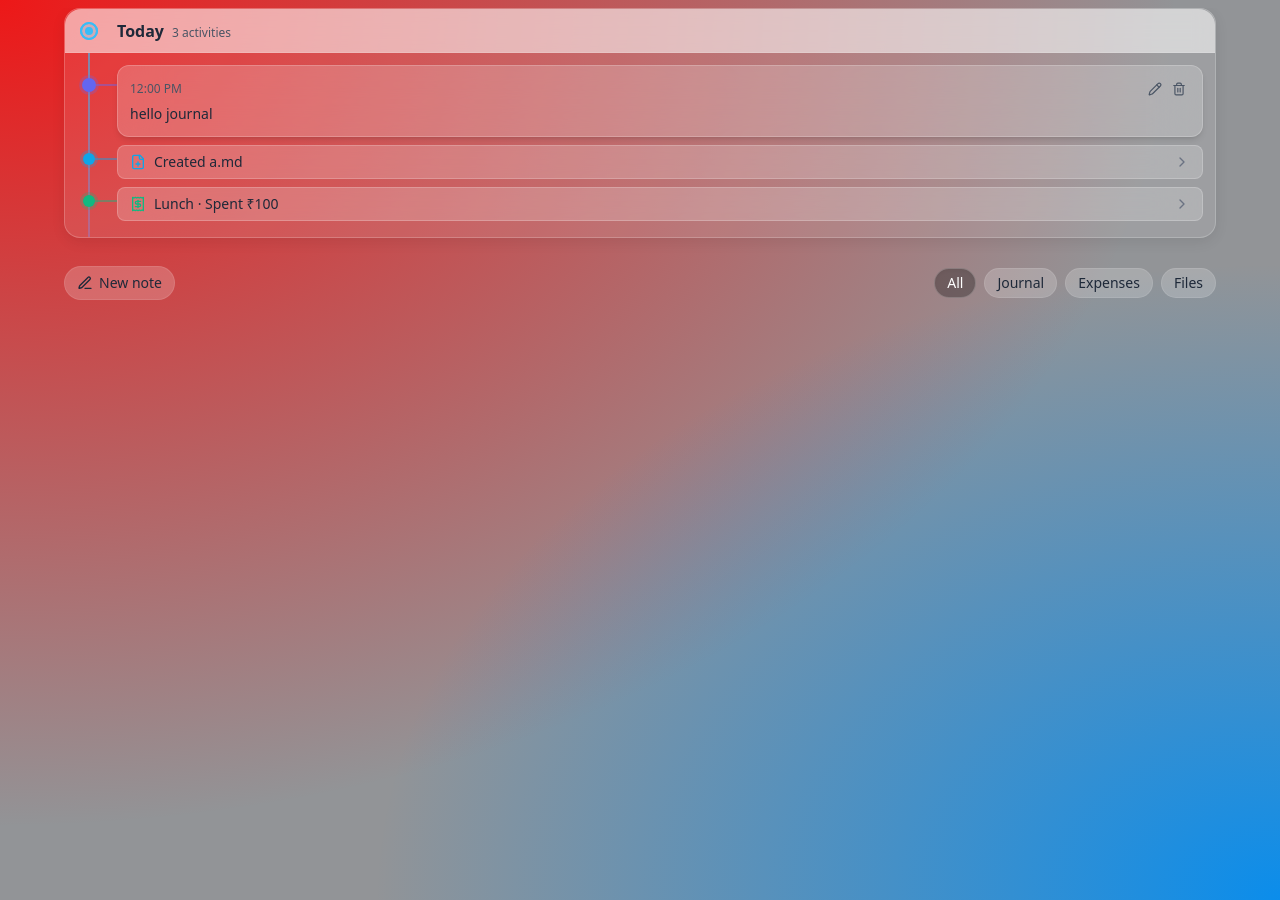
Test: feed filters › shows one kind at a time and everything under All
Expected: the text "hello journal" is shown, [130, 104, 212, 123]
Expected: the text "Lunch · Spent ₹100" is shown, [154, 194, 279, 213]
Click the button "Journal" at (1021, 283), box [984, 268, 1057, 298]
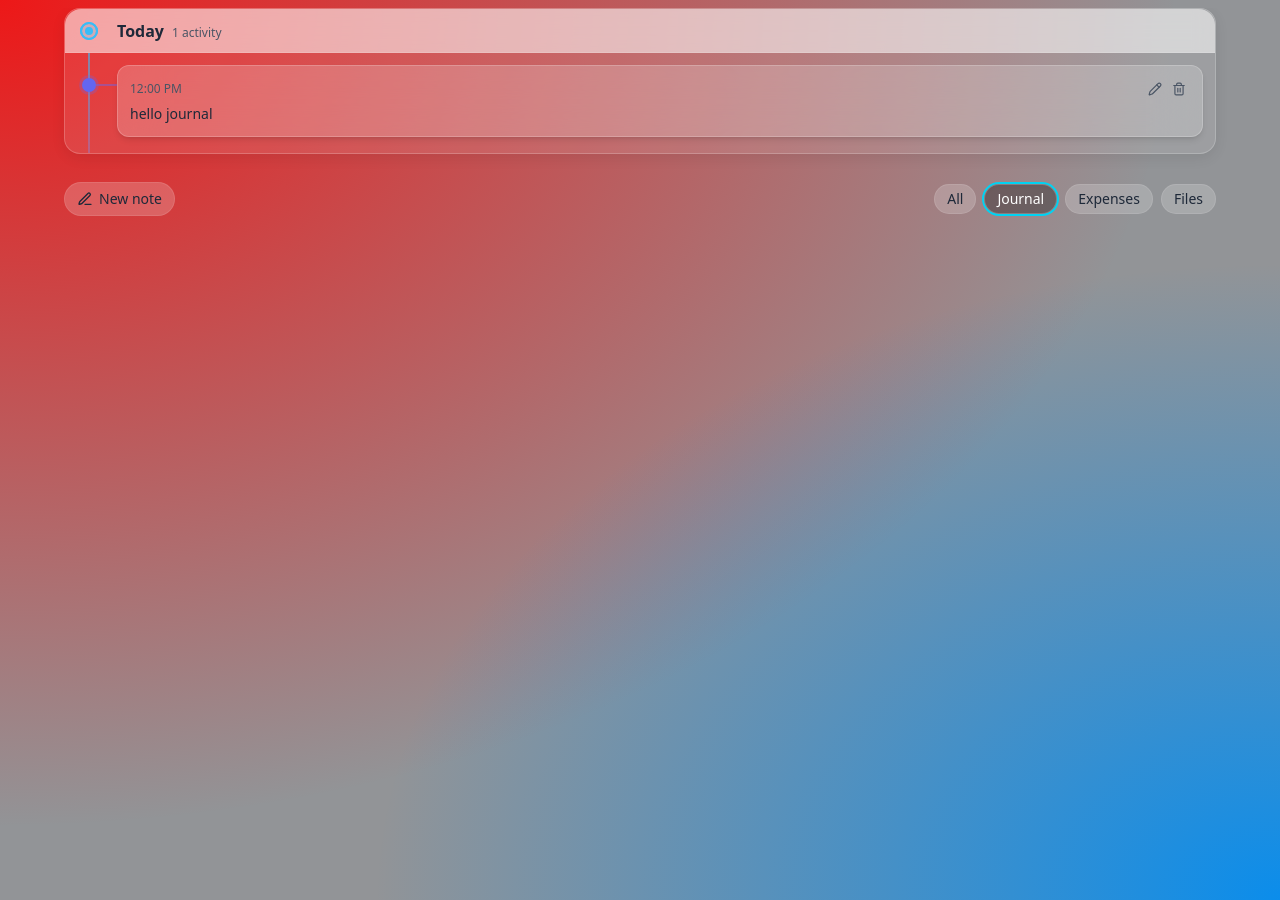
Expected: the text "hello journal" is shown, [130, 104, 212, 123]
Expected: the link "Lunch · Spent ₹100" is gone
Expected: the link "Created a.md" is gone
Click the button "Expenses" at (1109, 199), box [1065, 184, 1153, 214]
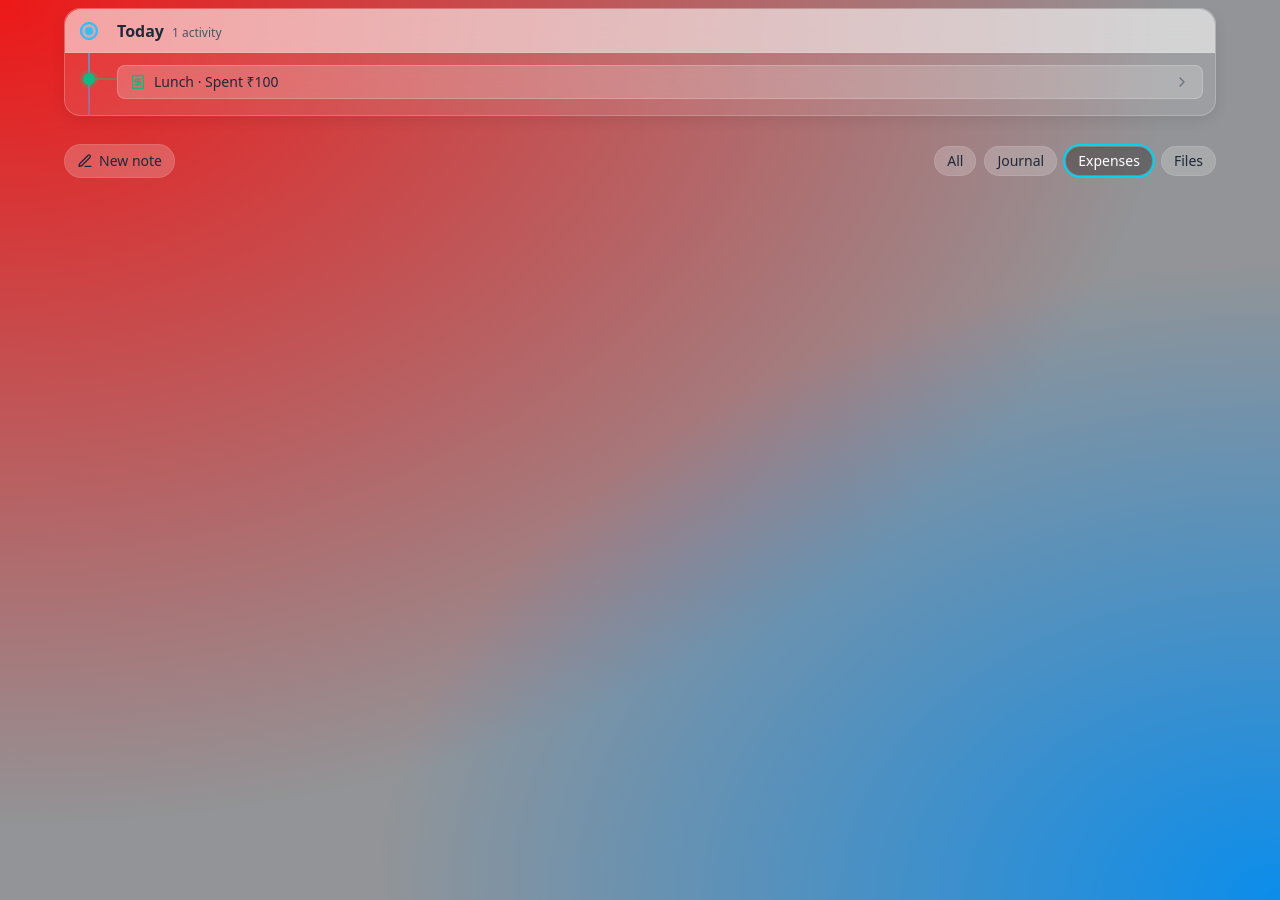
Expected: the link "Created a.md" is not shown
Expected: the text "Lunch · Spent ₹100" is shown, [154, 72, 279, 91]
Expected: the text "hello journal" is gone
Click the button "Files" at (1188, 161), box [1161, 146, 1216, 176]
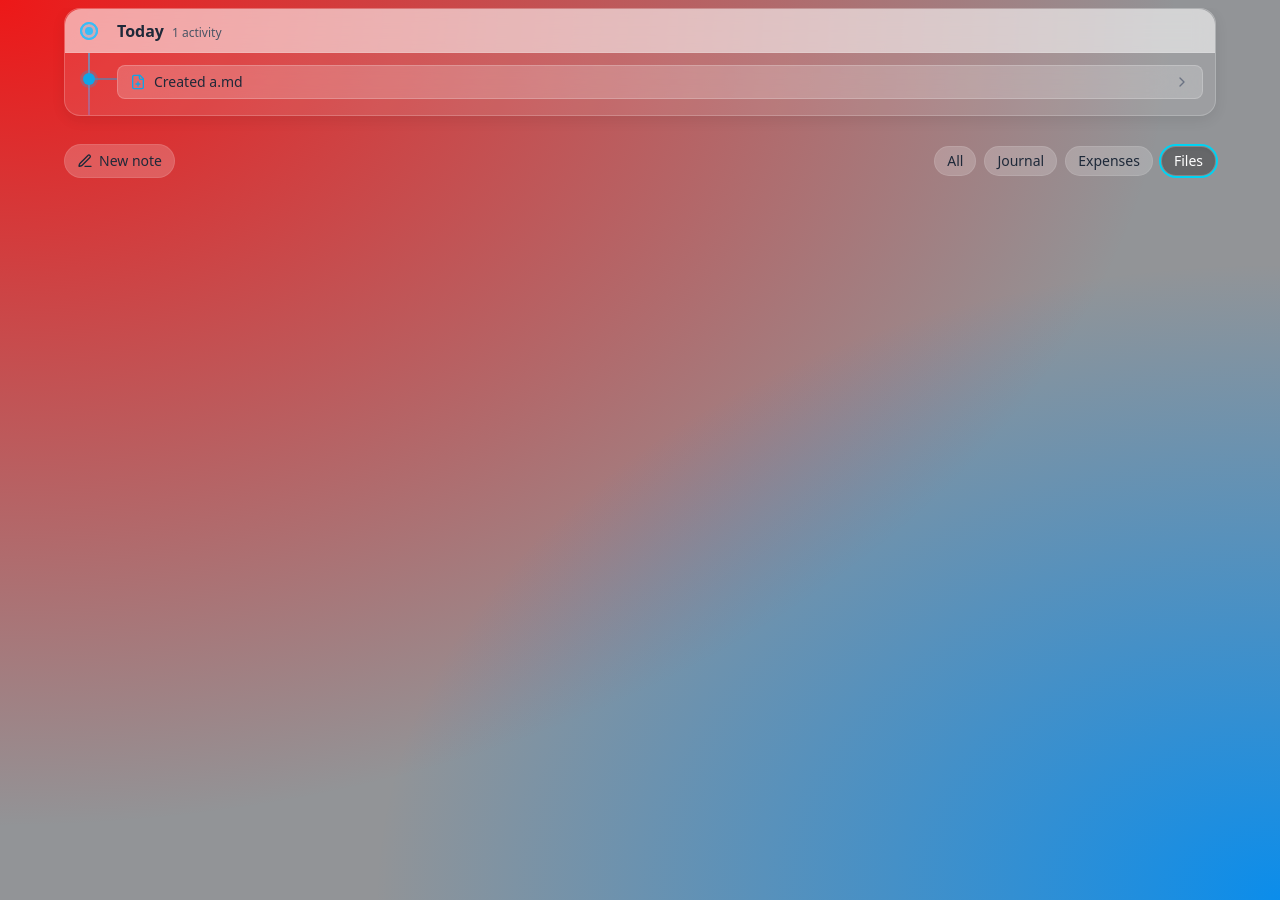
Expected: the text "Created a.md" is shown, [154, 72, 243, 91]
Expected: the link "Lunch · Spent ₹100" is gone
Click the button "All" at (955, 161), box [934, 146, 976, 176]
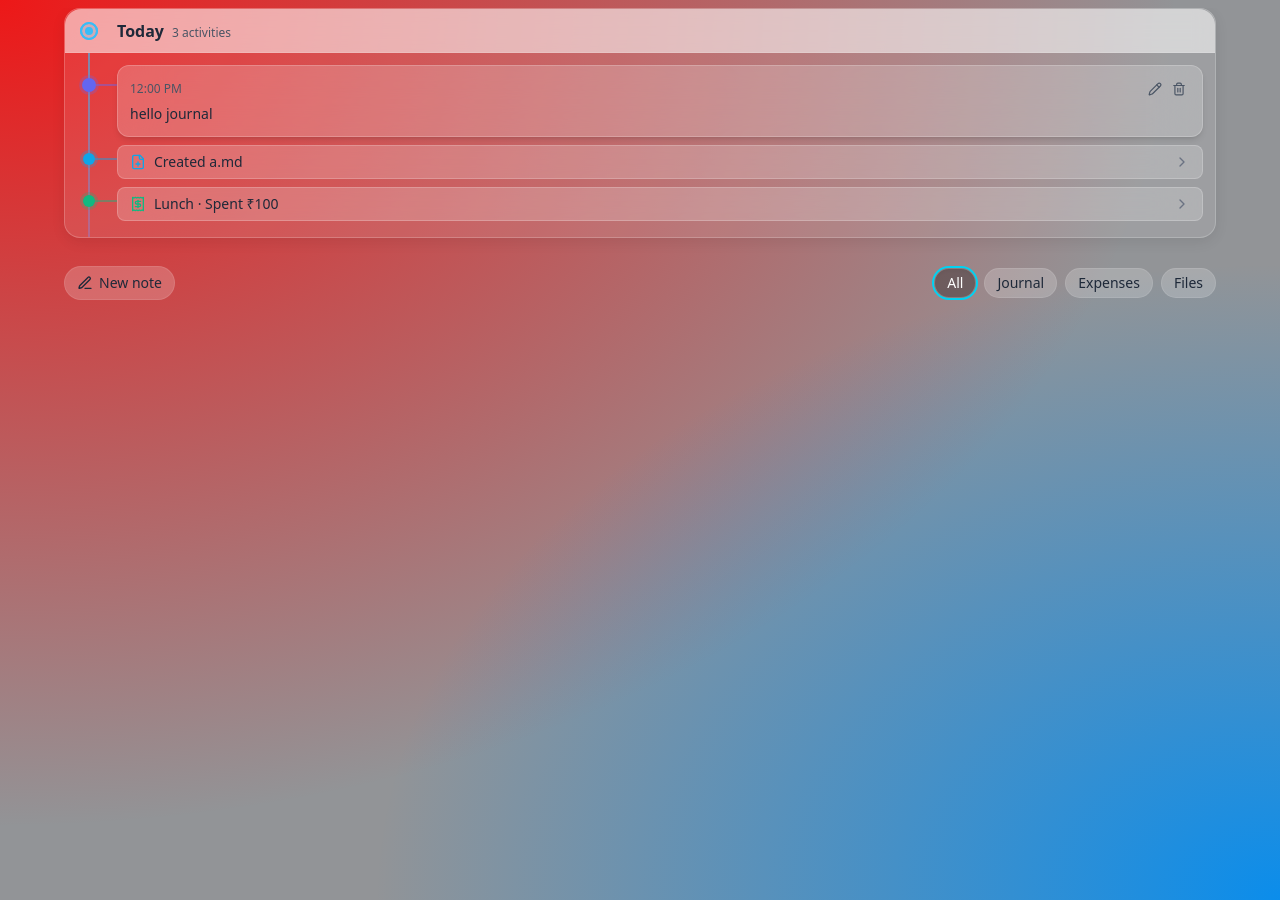
Expected: the text "hello journal" is shown, [130, 104, 212, 123]
